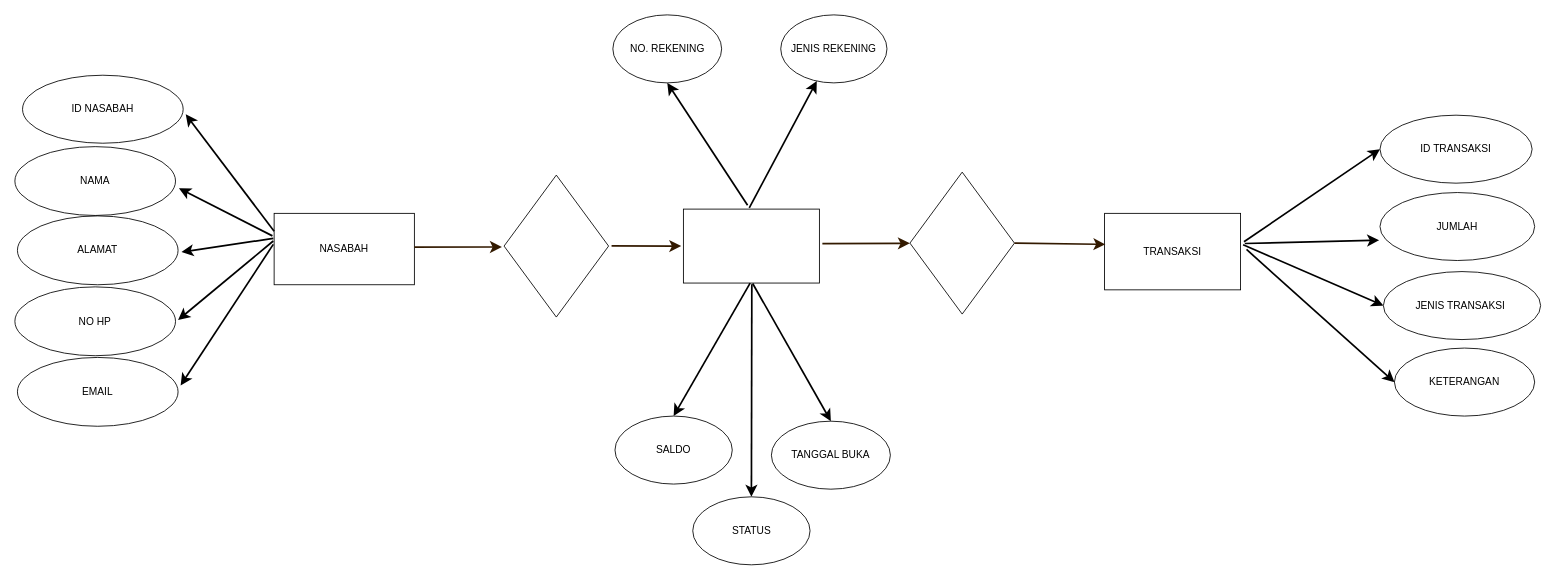
The diagram is 1556 pixels wide and 580 high, and some of its shapes have lost their labels. Each missing label, with the centre of its shape:
MELAKUKAN: (961,242)
MEMILIKI: (556,245)
REKENING: (751,245)
